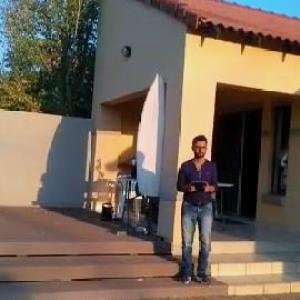follow: (169, 130, 222, 288)
